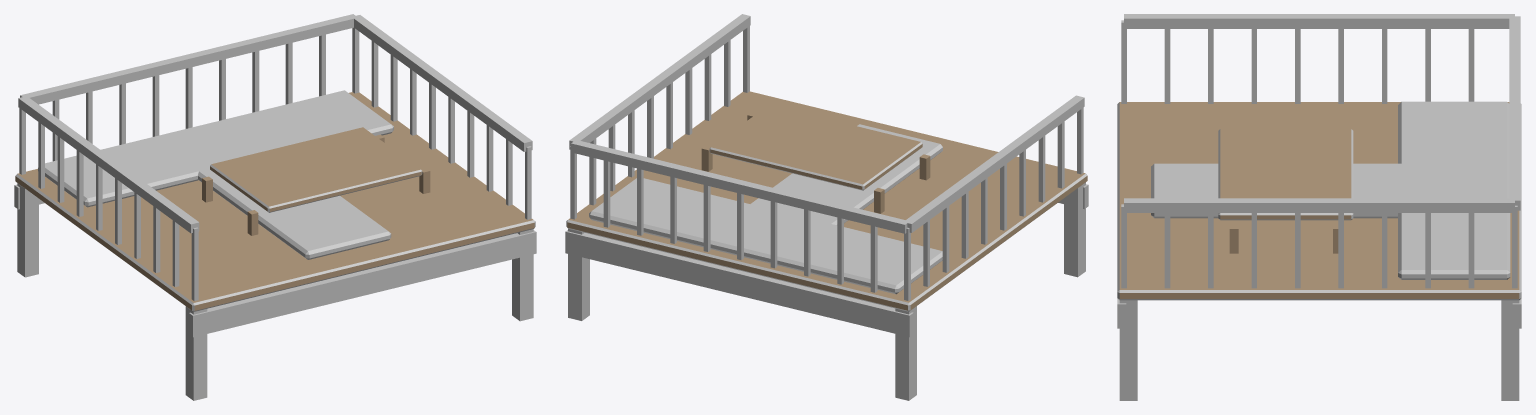
File: tapchan.glb
3 views of the same model, side by side, from view 1: azimuth 30°, elevation 25°; view 2: azimuth 150°, elevation 25°; view 3: azimuth 270°, elevation 25° (orthographic). The views are drawn at different scales.
Parts seen in each view (by area): view 1: tapchan; view 2: tapchan; view 3: tapchan.
Boxes of the visible parts, x1,y1,x2,y2 form: tapchan: (14,14,536,400); tapchan: (565,14,1088,400); tapchan: (1117,14,1521,400).
Bounding box in the file's own units: 2 × 0.975 × 1.8.
